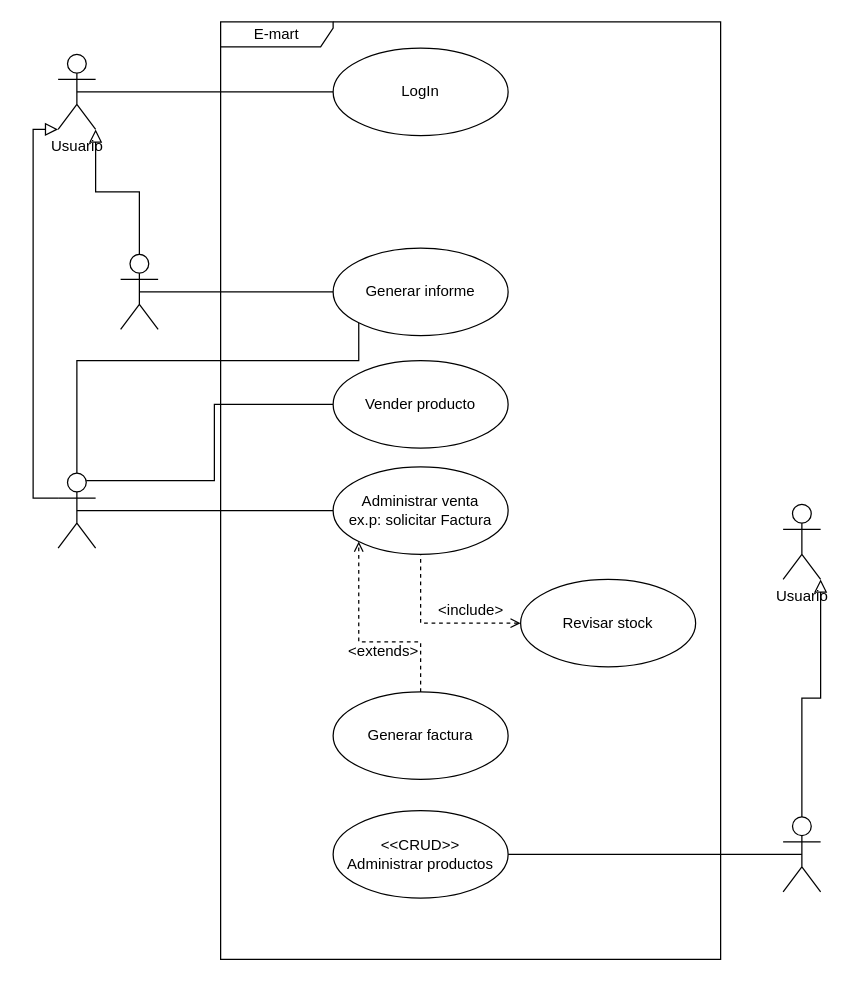
Some shapes in this 856 by 981 pixel diagram are drawn without their labels. The shapes that lost their labels are listed below. From the top down, each one's centre as x and y in pixels, then its label:
point 138,291: Gerente
point 76,510: Vendedor
point 801,854: Bodegero
